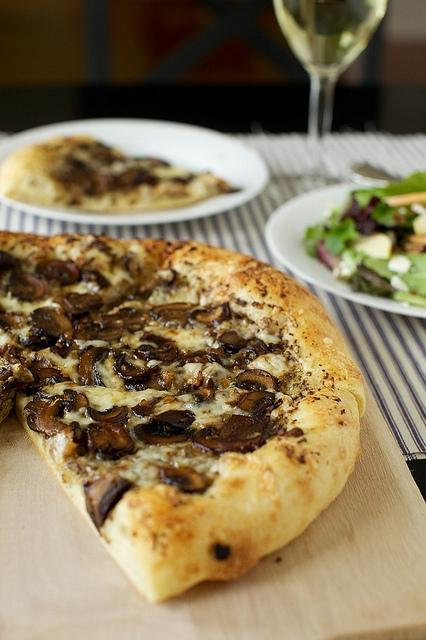mushroom: (24, 390, 89, 440), (194, 414, 274, 454), (83, 472, 134, 528), (80, 422, 134, 460), (134, 416, 188, 444), (100, 306, 152, 332), (112, 354, 162, 381), (98, 278, 137, 312), (151, 302, 200, 329), (6, 272, 46, 302), (78, 348, 106, 388), (160, 468, 206, 492), (36, 261, 80, 285), (189, 302, 230, 327), (236, 368, 278, 392), (72, 324, 122, 341), (154, 409, 196, 429), (238, 391, 275, 413), (185, 378, 216, 402), (63, 292, 104, 310), (88, 406, 128, 424), (217, 330, 247, 354), (20, 358, 49, 382), (49, 334, 73, 359), (231, 348, 258, 369), (80, 270, 110, 288), (74, 312, 102, 330), (159, 369, 175, 387), (130, 352, 138, 359)
